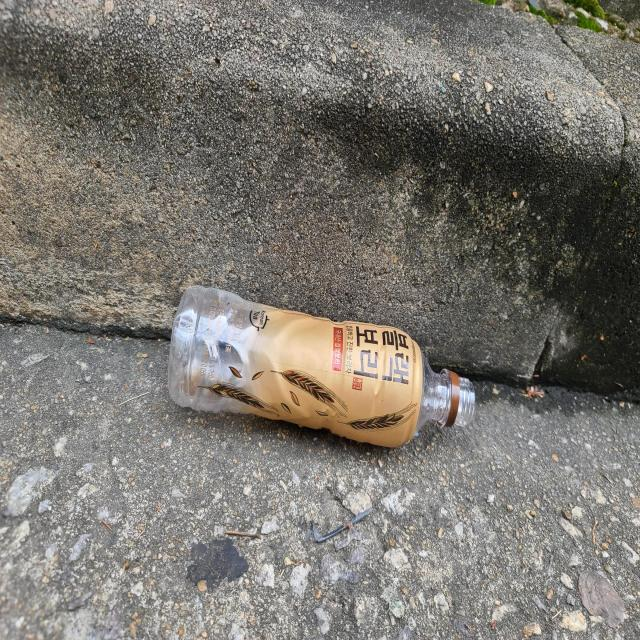plastic: (168, 286, 476, 447)
